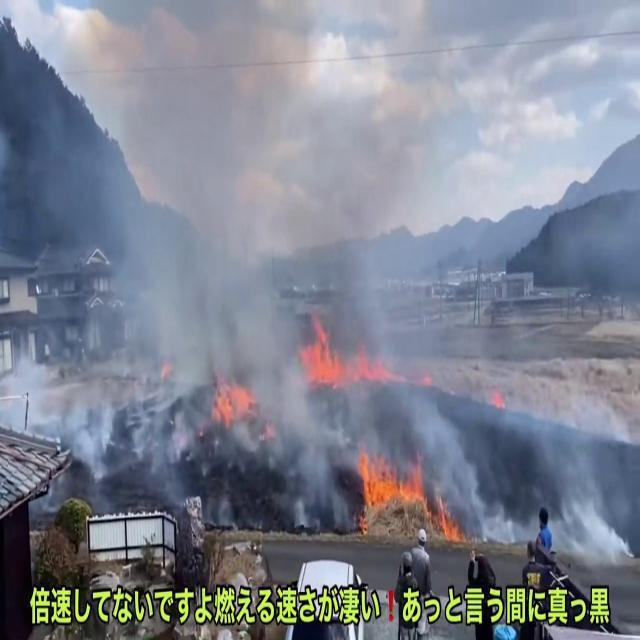Fire: (353, 436, 484, 538), (210, 362, 266, 448), (294, 312, 344, 386)
Smoke: (9, 19, 485, 516), (481, 348, 622, 580)
